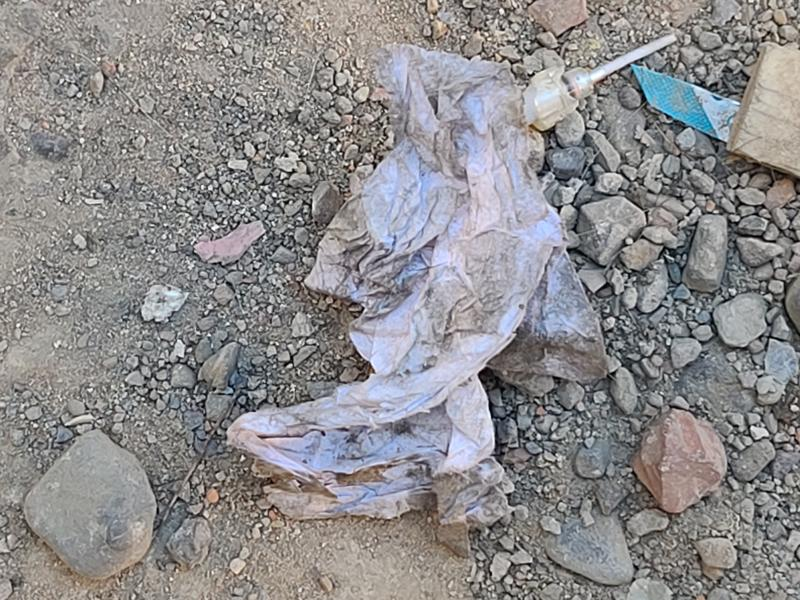papel: (227, 45, 562, 520)
